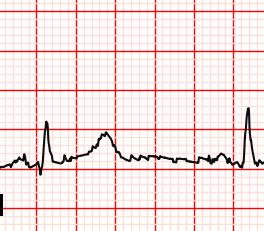LVH: (79, 130, 126, 163)
